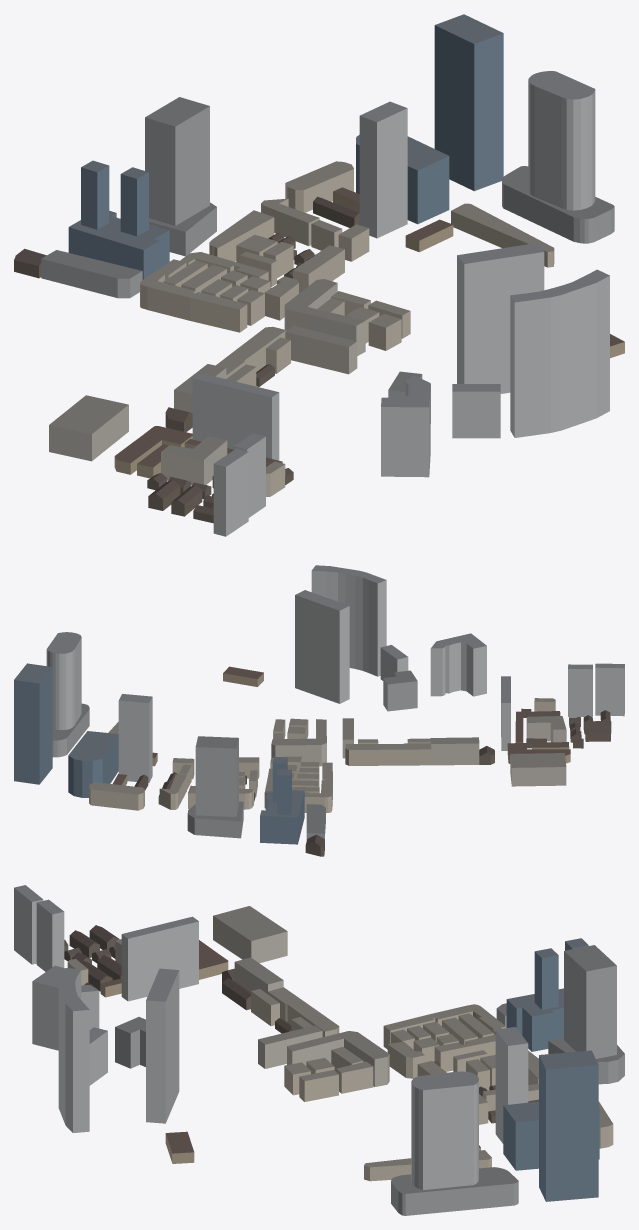
Rendered from tile_5_8.glb.
3 renders of one model, top to bottom at view 1: azimuth 30°, elevation 25°; view 2: azimuth 150°, elevation 25°; view 3: azimuth 270°, elevation 25°, orthographic. The views are drawn at different scales.
Visible parts, largest first — view 1: HP-w369237836, HP-w378107220, HP-w369237871, HP-w369238006, HP-w447021394, HP-w369237832, HP-w369237988, HP-w369237939, HP-w447124050, HP-w369238001, HP-w369237923, HP-w300481519 (+24 smaller); view 2: HP-w369237871, HP-w369237836, HP-w369238006, HP-w378107220, HP-w447124050, HP-w447021394, HP-w369237988, HP-w369237832, HP-w300481519, HP-w369237923, HP-w369237880, HP-w389701887 (+14 smaller); view 3: HP-w378107220, HP-w447021394, HP-w369238006, HP-w369237871, HP-w369237939, HP-w369237836, HP-w369238001, HP-w369237832, HP-w369237923, HP-w369237988, HP-w447124050, HP-w300481519 (+27 smaller).
Part boxes in pixels (box(x1,y1,x2,y2)): HP-w369237836: box(510, 269, 609, 437); HP-w378107220: box(434, 14, 503, 191); HP-w369237871: box(457, 243, 544, 393); HP-w369238006: box(145, 97, 216, 256); HP-w447021394: box(528, 71, 595, 210); HP-w369237832: box(68, 160, 169, 279); HP-w369237988: box(359, 101, 407, 238); HP-w369237939: box(192, 373, 279, 460); HP-w447124050: box(381, 375, 430, 477); HP-w369238001: box(502, 166, 614, 243); HP-w369237923: box(49, 395, 128, 461); HP-w300481519: box(356, 135, 449, 224); HP-w369237871: box(295, 590, 349, 703); HP-w369237836: box(311, 565, 386, 676); HP-w369238006: box(187, 736, 243, 838); HP-w378107220: box(14, 663, 52, 784); HP-w447124050: box(430, 633, 486, 696); HP-w447021394: box(46, 632, 81, 729); HP-w369237988: box(118, 694, 152, 782); HP-w369237832: box(260, 757, 304, 844); HP-w300481519: box(68, 731, 118, 797); HP-w369237923: box(510, 753, 566, 786); HP-w369237880: box(595, 663, 624, 716); HP-w389701887: box(430, 737, 479, 765); HP-w378107220: box(539, 1050, 598, 1201); HP-w447021394: box(411, 1071, 478, 1189); HP-w369238006: box(548, 945, 624, 1084); HP-w369237871: box(146, 968, 179, 1123); HP-w369237939: box(121, 916, 198, 1001); HP-w369237836: box(58, 968, 89, 1132); HP-w369238001: box(391, 1167, 518, 1215); HP-w369237832: box(506, 938, 588, 1051); HP-w369237923: box(213, 906, 287, 963); HP-w369237988: box(495, 1027, 528, 1143); HP-w447124050: box(32, 965, 99, 1050); HP-w300481519: box(503, 1101, 599, 1170).
Bounding box in the file's own units: 528 × 114 × 477.
